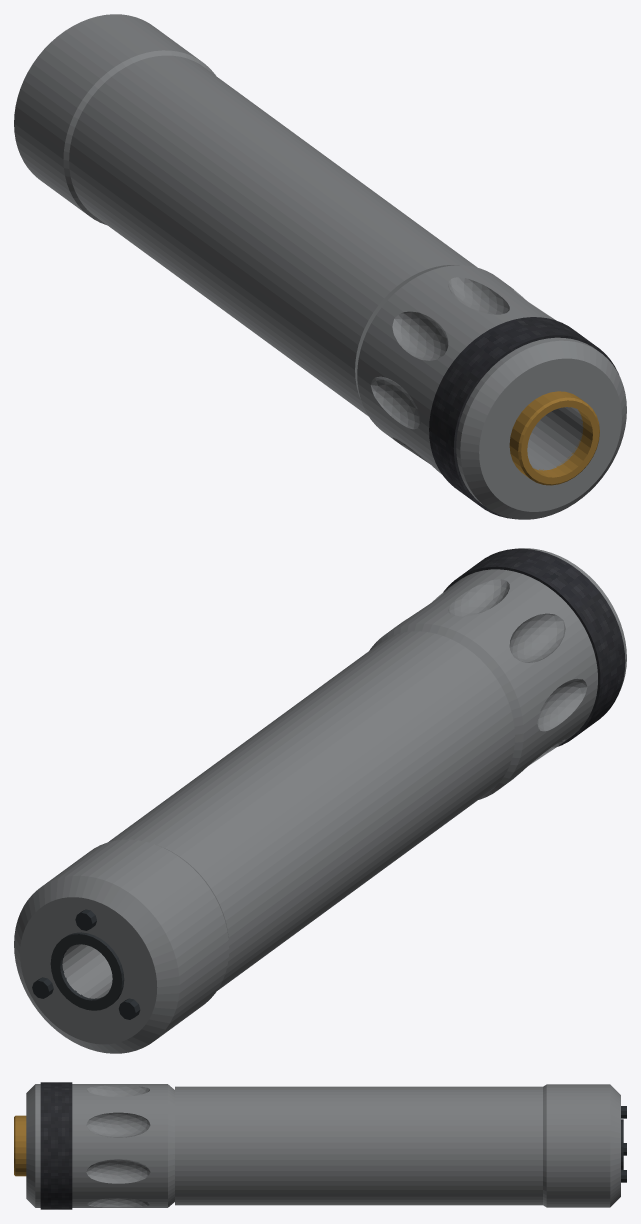
The model's file is supressor_9mm_cinza.glb.
The picture shows the model from 3 angles, top to bottom: view 1: azimuth 30°, elevation 25°; view 2: azimuth 150°, elevation 25°; view 3: azimuth 270°, elevation 25°; orthographic projection. The views are drawn at different scales.
Parts seen in each view (by area): view 1: supressor_9mm_cinza_cerakote_cinza, supressor_9mm_cinza_recartilhado, supressor_9mm_cinza_latao; view 2: supressor_9mm_cinza_cerakote_cinza, supressor_9mm_cinza_recartilhado, supressor_9mm_cinza_aco_cano, supressor_9mm_cinza_aco_oxidado; view 3: supressor_9mm_cinza_cerakote_cinza, supressor_9mm_cinza_recartilhado, supressor_9mm_cinza_latao, supressor_9mm_cinza_aco_oxidado.
Part boxes in pixels (x1,y1,x2,y2): supressor_9mm_cinza_cerakote_cinza: [14, 14, 626, 519]; supressor_9mm_cinza_recartilhado: [429, 317, 618, 519]; supressor_9mm_cinza_latao: [509, 391, 599, 485]; supressor_9mm_cinza_cerakote_cinza: [14, 548, 626, 1053]; supressor_9mm_cinza_recartilhado: [443, 548, 625, 746]; supressor_9mm_cinza_aco_cano: [50, 932, 124, 1010]; supressor_9mm_cinza_aco_oxidado: [32, 909, 140, 1019]; supressor_9mm_cinza_cerakote_cinza: [26, 1084, 620, 1207]; supressor_9mm_cinza_recartilhado: [40, 1082, 72, 1209]; supressor_9mm_cinza_latao: [14, 1115, 26, 1176]; supressor_9mm_cinza_aco_oxidado: [621, 1106, 626, 1182].
Size of the model in its own units: 0.036 by 0.036 by 0.1732.
Materials: 5 (1 with a texture image).
